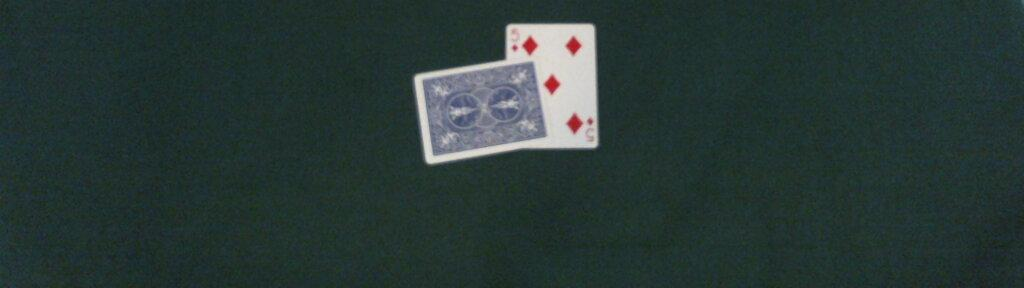back: (414, 58, 555, 167)
five: (503, 22, 600, 150)
